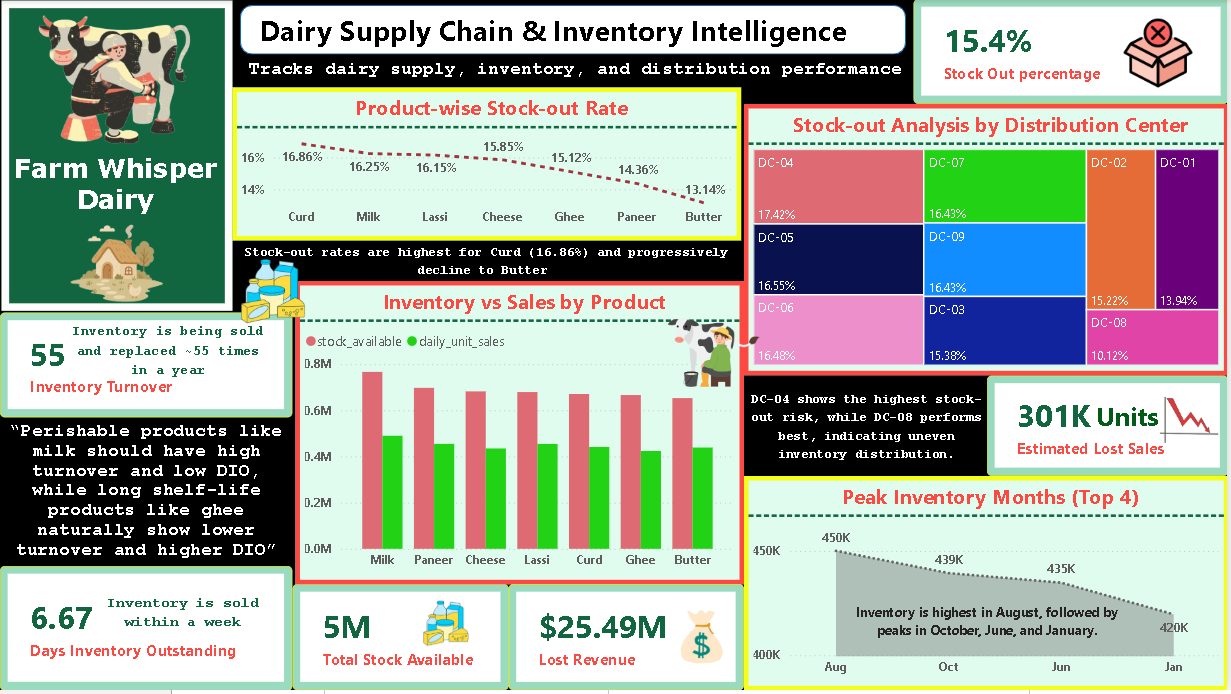

Layout of this report page (visuals, bound fields, positions):
{"tool":"powerbi","page":{"name":"Dairy Supply Chain & Inventory Intelligence","canvas":[1280,720],"ordinal":2},"visuals":[{"type":"shape","box":[1.6,1.6,240.7,323.5],"z":0},{"type":"shape","box":[250.1,6.3,694,51.6],"z":1000},{"type":"textbox","box":[0,154.7,240.7,89.1],"z":2000},{"type":"image","box":[23.4,6.3,193.8,156.3],"z":3000},{"type":"textbox","box":[242.3,57.8,714.3,40.6],"z":4000},{"type":"cardVisual","fields":{"Data":["Sum(fact_sales.stock_available)"]},"box":[304.8,609.6,225.1,111],"z":5000},{"type":"cardVisual","fields":{"Data":["fact_sales.Inventory Turnover final"]},"box":[0,326.7,304.8,109.4],"z":6000},{"type":"cardVisual","fields":{"Data":["fact_sales.DIO"]},"box":[0,590.8,304.8,129.7],"z":7000},{"type":"textbox","box":[90.7,612.7,200.1,53.1],"z":8000},{"type":"textbox","box":[62.5,329.8,225.1,89.1],"z":9000},{"type":"textbox","box":[0,434.5,304.8,156.3],"z":10000},{"type":"lineChart","title":"Product-wise Stock-out Rate","fields":{"Y":["fact_sales.Stock Out % (Product Wise)"],"Category":["dim_product.product_name"]},"box":[242.3,92.2,529.9,159.4],"z":11000},{"type":"cardVisual","fields":{"Data":["fact_sales.Estimated Lost Sales"]},"box":[1028.4,392.3,251.6,104.7],"z":12000},{"type":"lineClusteredColumnComboChart","title":"Inventory vs Sales by Product","fields":{"Category":["dim_product.product_name"],"Y":["Sum(fact_sales.stock_available)","Sum(fact_sales.daily_unit_sales)"]},"box":[307.9,293.8,467.3,315.7],"z":13000},{"type":"cardVisual","fields":{"Data":["fact_sales.Stock Out percentage"]},"box":[951.9,0,328.2,109.4],"z":14000},{"type":"textbox","box":[1119.1,411.1,111,46.9],"z":15000},{"type":"cardVisual","fields":{"Data":["fact_sales.Lost Revenue"]},"box":[529.9,609.6,245.4,111],"z":16000},{"type":"treemap","title":"Stock-out Analysis by Distribution Center","fields":{"Group":["dim_location.distribution_center"],"Values":["fact_sales.Stock Out % (Product Wise)"]},"box":[775.2,109.4,504.8,282.9],"z":17000},{"type":"areaChart","title":"Peak Inventory Months (Top 4)","fields":{"Category":["dim_date.month"],"Y":["Sum(fact_sales.stock_available)"]},"box":[775.2,497,504.8,223.5],"z":18000},{"type":"textbox","box":[226.6,247,559.5,59.4],"z":19000},{"type":"textbox","box":[776.8,400.1,251.6,120.4],"z":20000},{"type":"textbox","box":[878.4,623.6,300.1,67.2],"z":21000},{"type":"image","box":[232.9,259.5,107.8,84.4],"z":22000},{"type":"image","box":[678.3,326.7,125,81.3],"z":23000},{"type":"image","box":[678.3,631.4,107.8,68.8],"z":24000},{"type":"image","box":[1197.2,350.1,82.8,173.5],"z":25000},{"type":"image","box":[381.4,618.9,168.8,59.4],"z":26000},{"type":"image","box":[1156.6,12.5,104.7,84.4],"z":27000},{"type":"image","box":[48.5,221.9,145.4,100],"z":28000}]}

Visuals, with their boxes in screenshot pixels (x1, y1, x2, y2), scaled from the page's 1280x720 canvas onto the 1231x694 screenshot:
shape: <box>2,2,233,313</box>
shape: <box>241,6,908,56</box>
textbox: <box>0,149,231,235</box>
image: <box>23,6,209,157</box>
textbox: <box>233,56,920,95</box>
cardVisual - Sum(fact_sales.stock_available): <box>293,588,510,693</box>
cardVisual - fact_sales.Inventory Turnover final: <box>0,315,293,420</box>
cardVisual - fact_sales.DIO: <box>0,569,293,693</box>
textbox: <box>87,591,280,642</box>
textbox: <box>60,318,277,404</box>
textbox: <box>0,419,293,569</box>
"Product-wise Stock-out Rate" lineChart: <box>233,89,743,243</box>
cardVisual - fact_sales.Estimated Lost Sales: <box>989,378,1230,479</box>
"Inventory vs Sales by Product" lineClusteredColumnComboChart: <box>296,283,746,587</box>
cardVisual - fact_sales.Stock Out percentage: <box>915,0,1230,105</box>
textbox: <box>1076,396,1183,441</box>
cardVisual - fact_sales.Lost Revenue: <box>510,588,746,693</box>
"Stock-out Analysis by Distribution Center" treemap: <box>746,105,1230,378</box>
"Peak Inventory Months (Top 4)" areaChart: <box>746,479,1230,693</box>
textbox: <box>218,238,756,295</box>
textbox: <box>747,386,989,502</box>
textbox: <box>845,601,1133,666</box>
image: <box>224,250,328,331</box>
image: <box>652,315,773,393</box>
image: <box>652,609,756,675</box>
image: <box>1151,337,1230,505</box>
image: <box>367,597,529,654</box>
image: <box>1112,12,1213,93</box>
image: <box>47,214,186,310</box>
